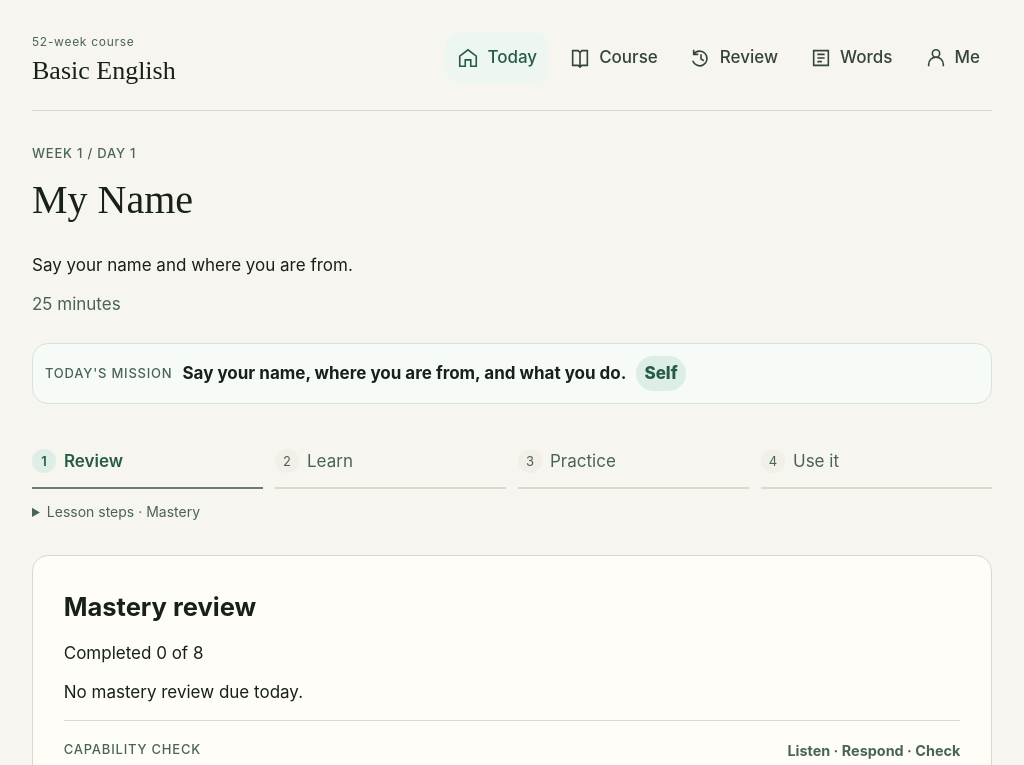
Scenario: App shell › uses default reading settings when localStorage reads fail during initial render
The width and height of the screenshot is (1024, 765).
Click the button "Me" at (952, 58), box x1=912 y1=32 x2=992 y2=83
(page scrolled)
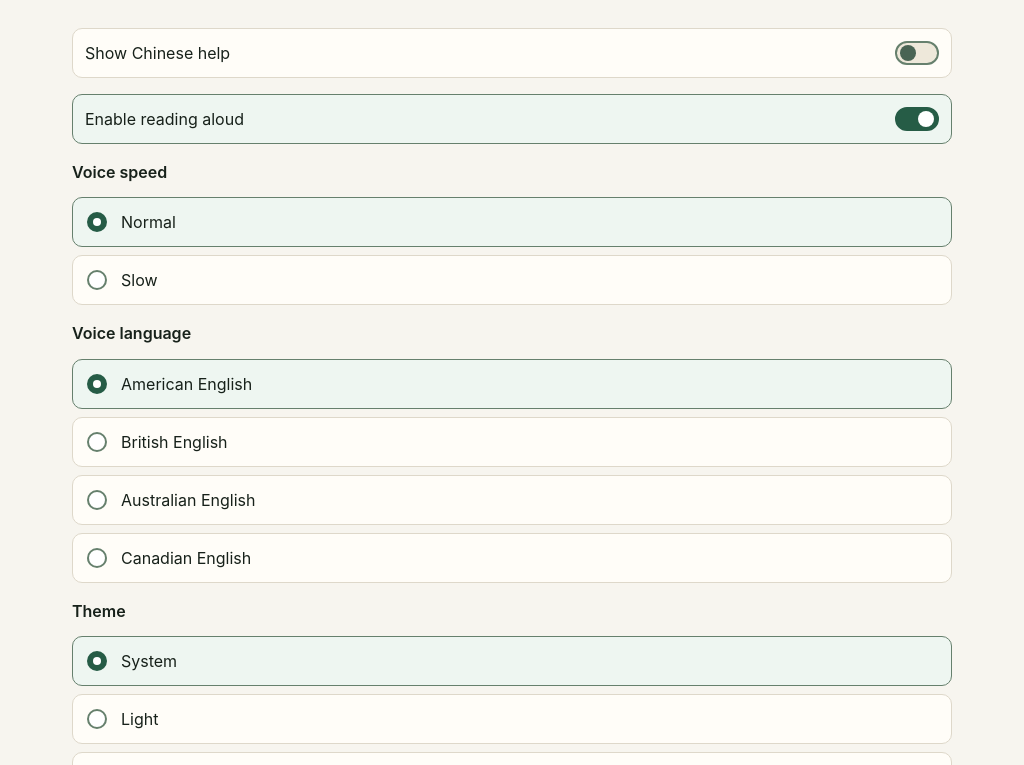
Now the switch labelled "Enable reading aloud" is checked, box x1=72 y1=94 x2=952 y2=144
Now the radio button labelled "Normal" is checked, box x1=72 y1=197 x2=952 y2=247
Now the radio button labelled "American English" is checked, box x1=72 y1=359 x2=952 y2=409
